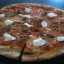pizza: (1, 3, 64, 57)
